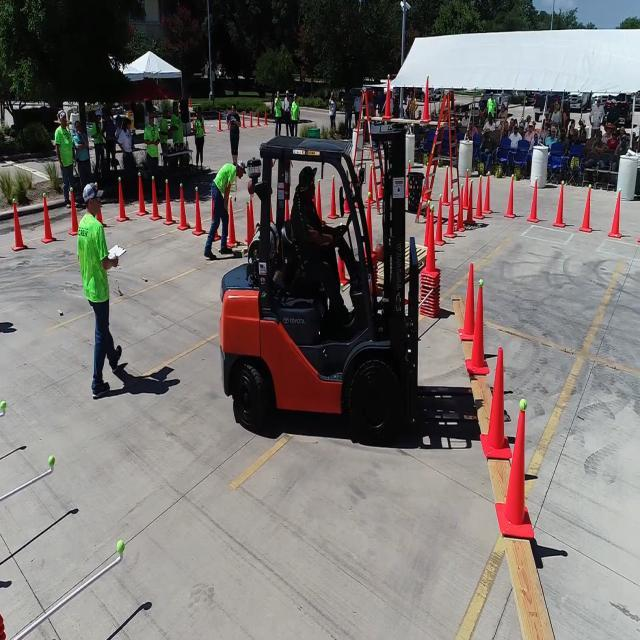forklift: (220, 133, 420, 444)
person: (78, 187, 119, 397), (208, 155, 234, 243), (56, 109, 76, 200), (144, 112, 160, 172), (230, 104, 240, 161), (120, 120, 134, 156), (591, 98, 605, 134), (273, 90, 283, 130), (290, 94, 300, 130)
